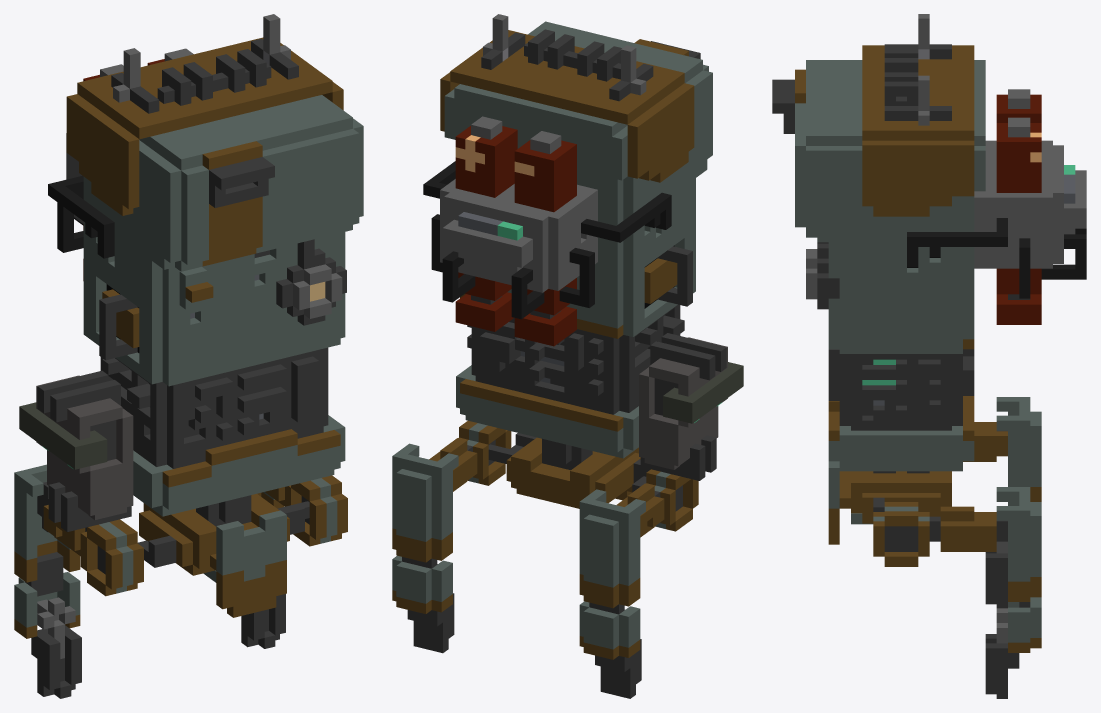
File: robot_recon.glb
The picture shows the model from 3 angles, left to right: view 1: azimuth 30°, elevation 25°; view 2: azimuth 150°, elevation 25°; view 3: azimuth 270°, elevation 25°; orthographic projection. The views are drawn at different scales.
Parts seen in each view (by area): view 1: Node; view 2: Node; view 3: Node.
Boxes of the visible parts, box(x1,y1,x2,y2) form: Node: box(14, 14, 363, 698); Node: box(392, 14, 743, 698); Node: box(772, 14, 1086, 698).
Size of the model in its own units: 2.7 by 5.9 by 2.8.
1 material, 1 textured.
